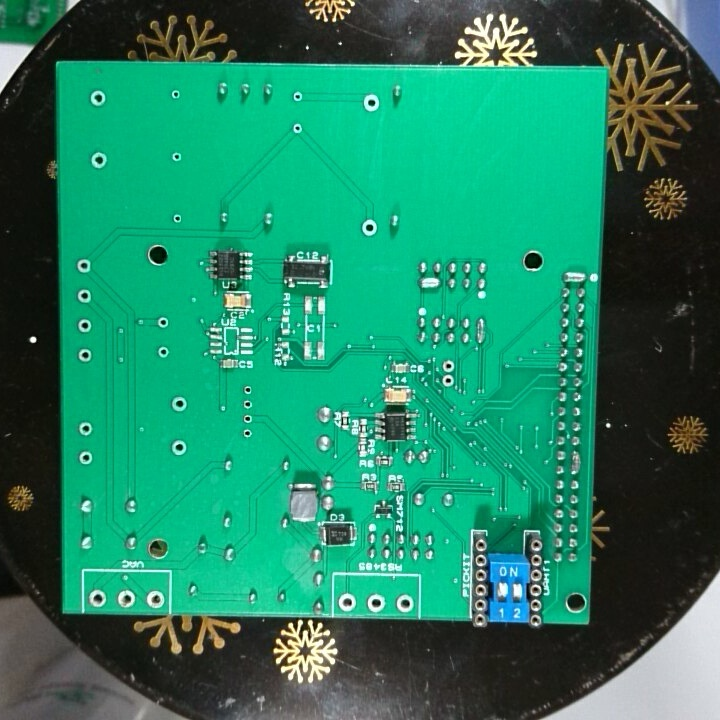F: (142, 587, 167, 611), (87, 148, 111, 172), (394, 589, 416, 615), (365, 591, 388, 614), (86, 587, 108, 611), (86, 87, 109, 109), (115, 586, 137, 609), (361, 92, 382, 115), (337, 591, 358, 614), (74, 316, 96, 337), (359, 216, 379, 239), (168, 393, 189, 414), (168, 436, 189, 457), (74, 255, 94, 276), (74, 286, 95, 306), (75, 345, 94, 365), (76, 448, 96, 467), (238, 424, 257, 443), (76, 418, 94, 438), (154, 343, 172, 361), (439, 372, 458, 389), (168, 149, 186, 166), (169, 209, 186, 227), (239, 381, 257, 398), (440, 357, 457, 375), (155, 313, 171, 332), (167, 86, 184, 103), (290, 119, 305, 138), (290, 89, 306, 106), (239, 396, 256, 412), (239, 411, 257, 426)
P: (416, 273, 444, 292), (559, 268, 588, 285), (474, 315, 489, 347), (568, 448, 583, 478)
